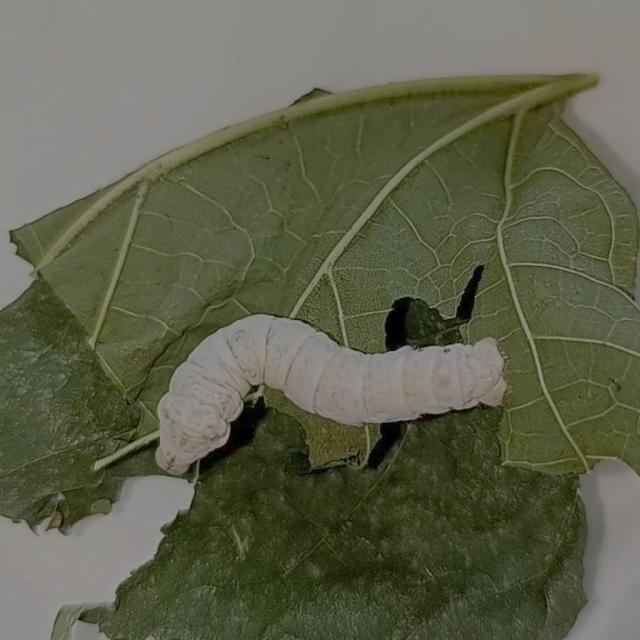Healthy: (134, 290, 526, 510)
